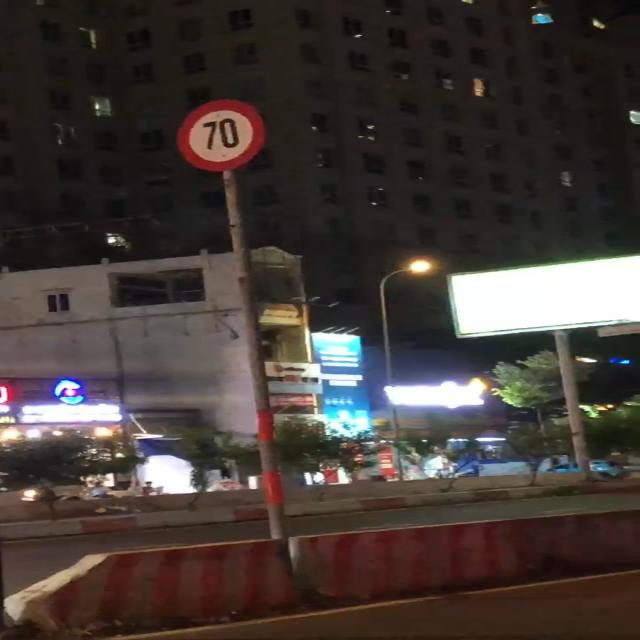Bien bao toc do toi da cho phep: (170, 89, 280, 177)
